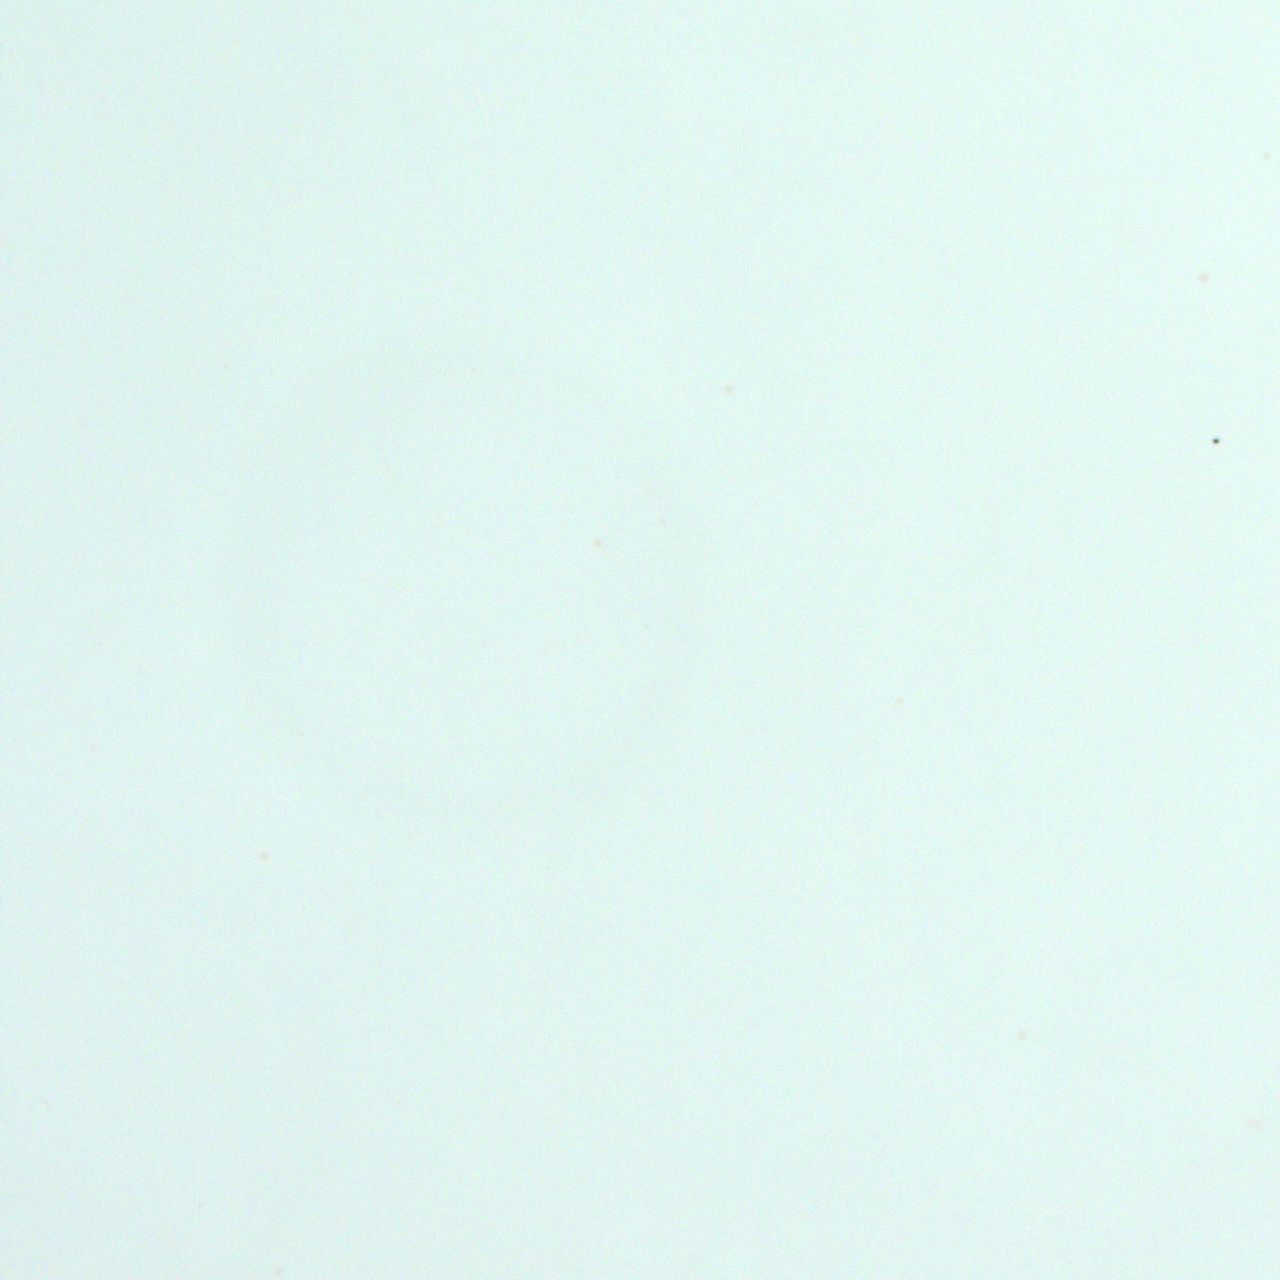dust: (1210, 436, 1220, 444)
